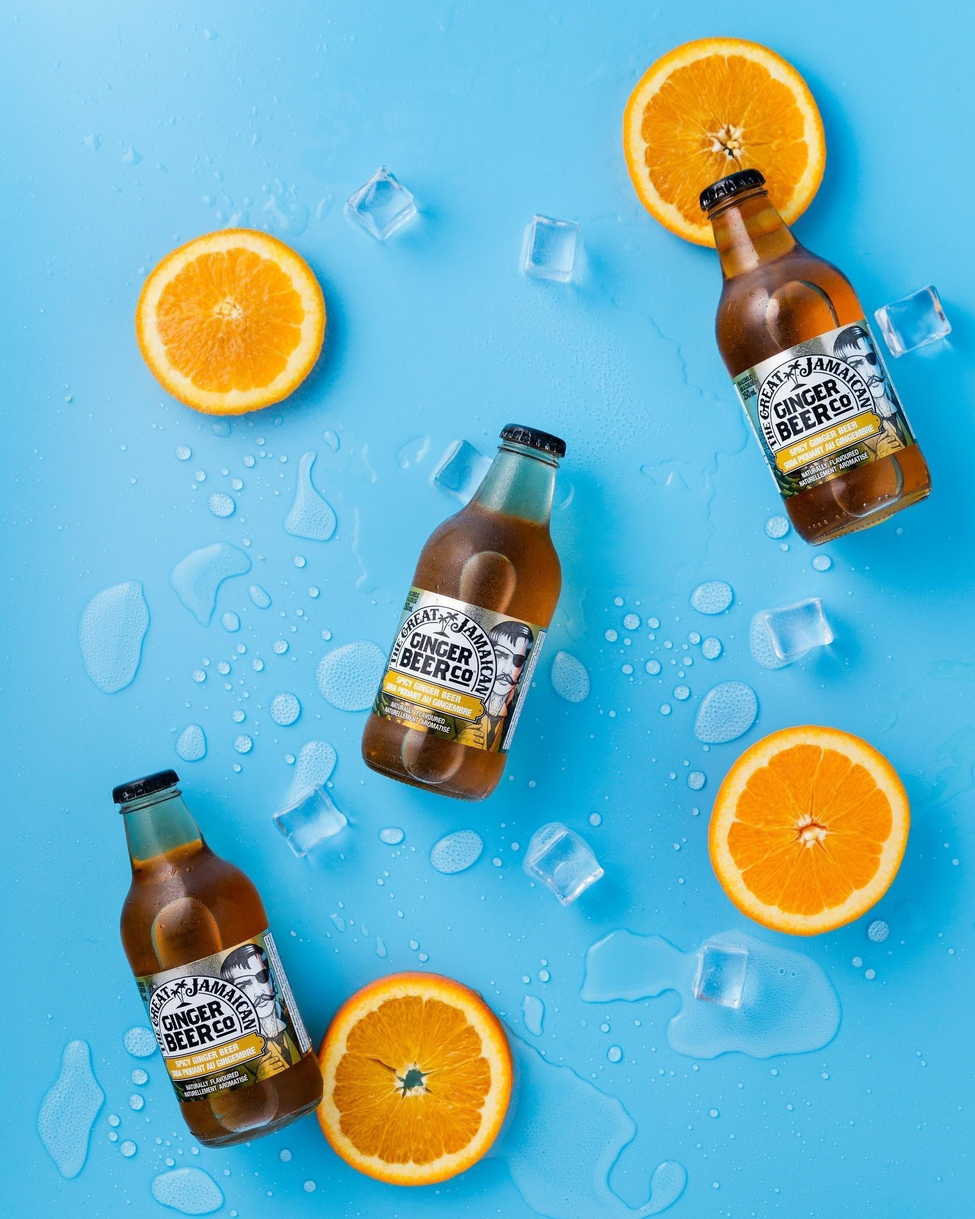bottle-glass: (686, 159, 939, 557), (351, 410, 578, 816), (103, 761, 332, 1158)
